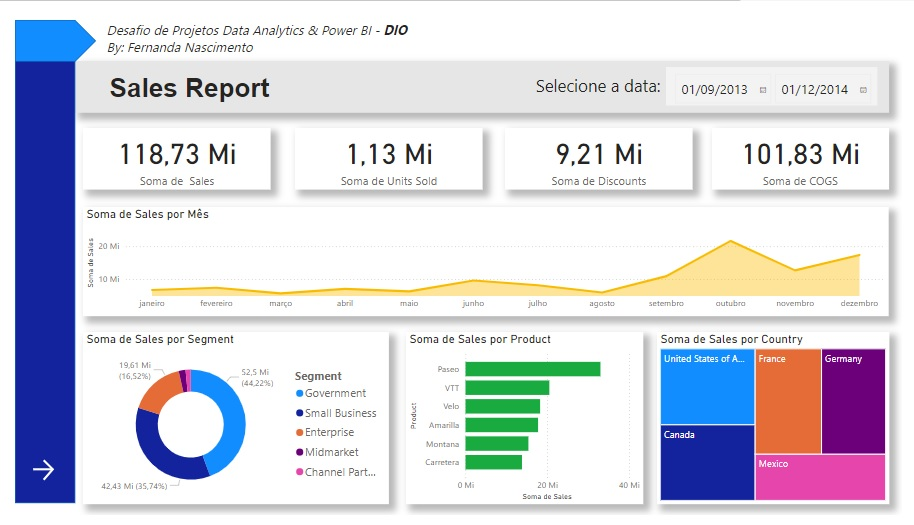

Layout of this report page (visuals, bound fields, positions):
{"tool":"powerbi","page":{"name":"Página 1","canvas":[1280,720],"ordinal":0},"visuals":[{"type":"textbox","box":[98.2,71.9,1163.2,73.7],"z":0},{"type":"shape","box":[12.3,12.3,115.8,59.6],"z":1000},{"type":"shape","box":[12.3,71.9,86,631.6],"z":2000},{"type":"textbox","box":[138.2,8.6,816.5,63.4],"z":3000},{"type":"card","fields":{"Values":["Sum(financials. Sales)"]},"box":[110.5,166.7,268.4,87.7],"z":4000},{"type":"card","fields":{"Values":["Sum(financials.Units Sold)"]},"box":[412.3,166.7,268.4,87.7],"z":5000},{"type":"card","fields":{"Values":["Sum(financials.Discounts)"]},"box":[712.3,166.7,268.4,87.7],"z":6000},{"type":"card","fields":{"Values":["Sum(financials.COGS)"]},"box":[1008.8,166.7,252.6,87.7],"z":7000},{"type":"areaChart","fields":{"Y":["Sum(financials. Sales)"],"Category":["financials.Date.Variation.Hierarquia de datas.Mês"]},"box":[110.5,280.7,1150.9,156.1],"z":8000},{"type":"donutChart","fields":{"Y":["Sum(financials. Sales)"],"Category":["financials.Segment"]},"box":[110.5,457.9,436.8,245.6],"z":9000},{"type":"clusteredBarChart","fields":{"Y":["Sum(financials. Sales)"],"Category":["financials.Product"]},"box":[571.9,457.9,338.6,245.6],"z":10000},{"type":"treemap","fields":{"Values":["Sum(financials. Sales)"],"Group":["financials.Country"]},"box":[929.8,457.9,331.6,245.6],"z":11000},{"type":"slicer","fields":{"Values":["financials.Date"]},"box":[943.3,80,301.7,55],"z":12000},{"type":"textbox","box":[711.7,85,228.3,45],"z":13000},{"type":"actionButton","box":[33.3,635,43.3,40],"z":14000}]}

Visuals, with their boxes in screenshot pixels (x1, y1, x2, y2), scaled from the page's 1280x720 canvas onto the 914x525 screenshot:
textbox: 70:52:901:106
shape: 9:9:91:52
shape: 9:52:70:513
textbox: 99:6:682:52
card - Sum(financials. Sales): 79:122:271:185
card - Sum(financials.Units Sold): 294:122:486:185
card - Sum(financials.Discounts): 509:122:700:185
card - Sum(financials.COGS): 720:122:901:185
areaChart - Sum(financials. Sales) x financials.Date.Variation.Hierarquia de datas.Mês: 79:205:901:318
donutChart - Sum(financials. Sales) x financials.Segment: 79:334:391:513
clusteredBarChart - Sum(financials. Sales) x financials.Product: 408:334:650:513
treemap - Sum(financials. Sales) x financials.Country: 664:334:901:513
slicer - financials.Date: 674:58:889:98
textbox: 508:62:671:95
actionButton: 24:463:55:492
